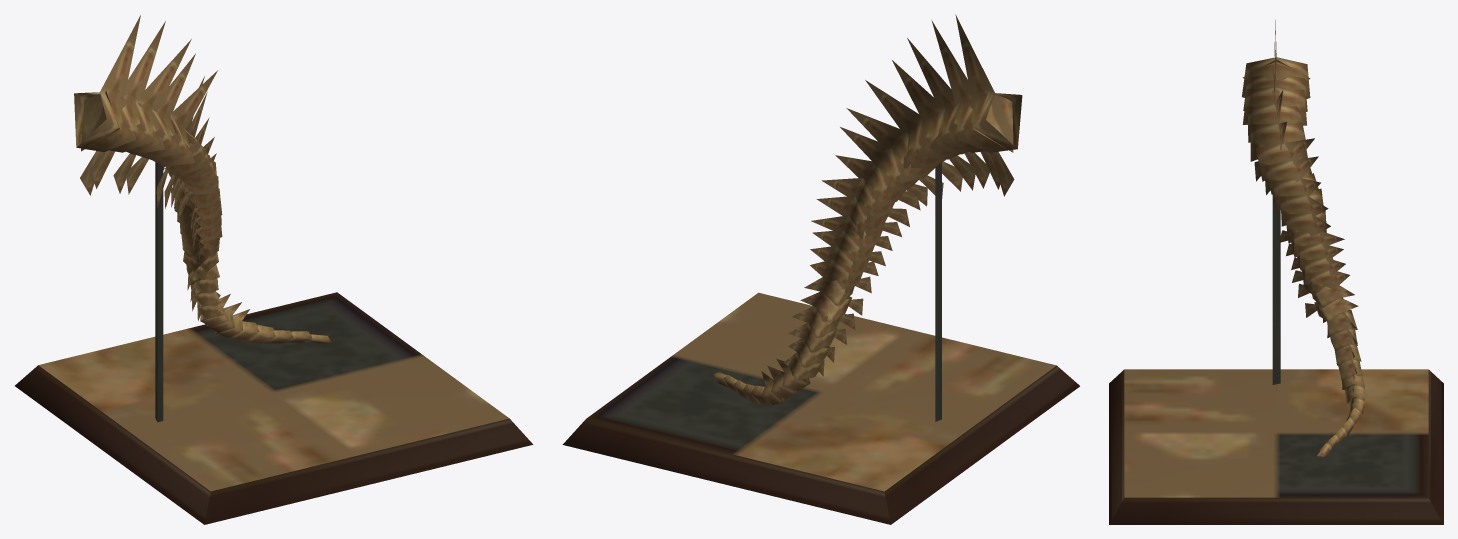
Rendered from int_din_tri_c.dae.
3 views of the same model, side by side, from view 1: azimuth 30°, elevation 25°; view 2: azimuth 150°, elevation 25°; view 3: azimuth 270°, elevation 25° (orthographic). The views are drawn at different scales.
Visible parts, largest first — view 1: int_din_tri_c; view 2: int_din_tri_c; view 3: int_din_tri_c.
Part boxes in pixels (x1,y1,x2,y2): int_din_tri_c: (15, 15, 532, 524); int_din_tri_c: (562, 14, 1079, 524); int_din_tri_c: (1109, 20, 1443, 524).
Bounding box in the file's own units: 64.48 × 73.99 × 58.65.
1 material, 1 textured.
